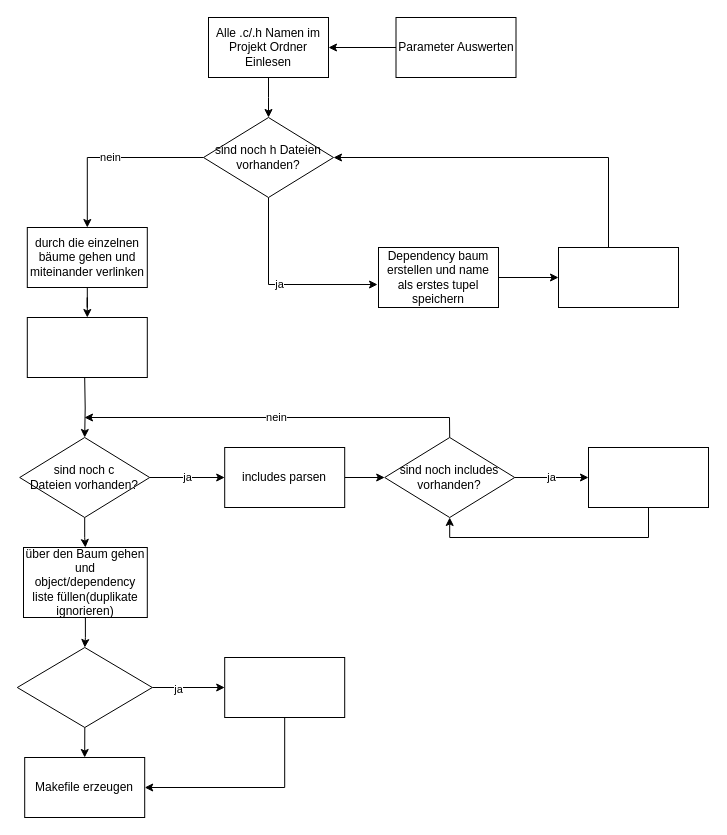
Image size: 727x835. Some labels were removed from this diagram. Each missing label, with the centre of its shape:
an baum anhängen: the point at 648,477
Datei öffnen, includes parsen und an baum anhängen: the point at 618,277
flag setzten: the point at 284,687
mainfile parsen und bäume anhängen: the point at 86,347
wurden libraries benutzt die bestimmte flags brauchen?(pthread): the point at 84,687
